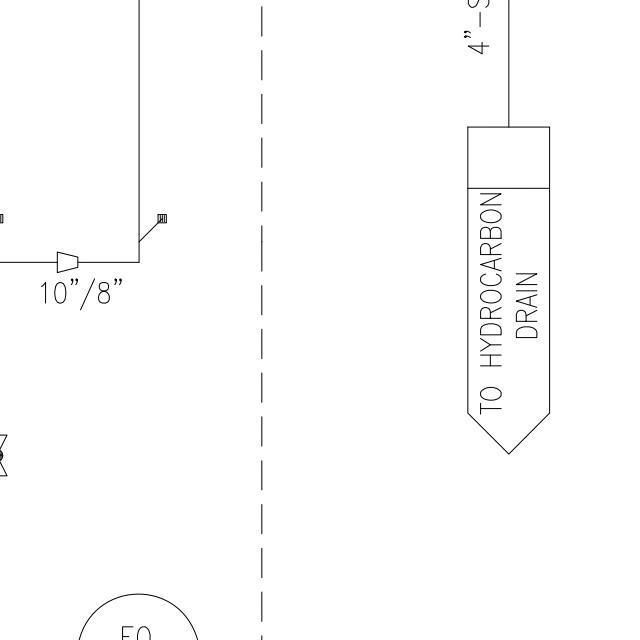SP: (52, 247, 81, 277)
